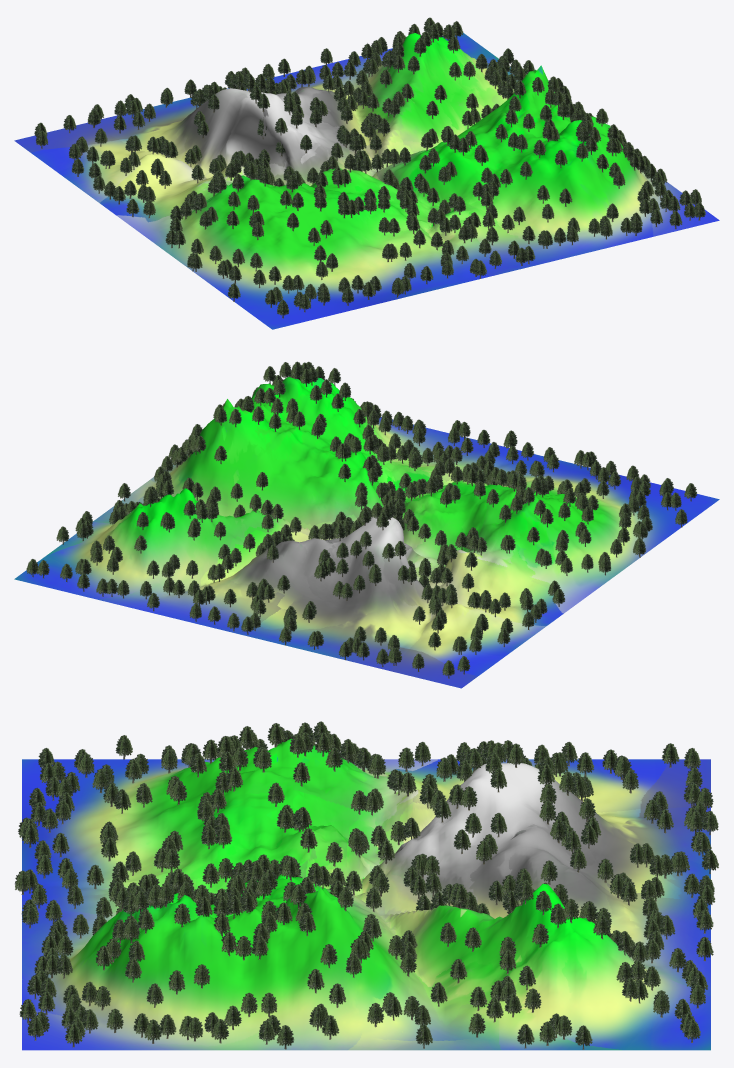
File: terrain5.glb
The picture shows the model from 3 angles, top to bottom: view 1: azimuth 30°, elevation 25°; view 2: azimuth 150°, elevation 25°; view 3: azimuth 270°, elevation 25°; orthographic projection. The views are drawn at different scales.
Parts seen in each view (by area): view 1: Landscape; view 2: Landscape; view 3: Landscape.
Boxes of the visible parts, box(x1,y1,x2,y2) form: Landscape: box(14, 32, 719, 329); Landscape: box(14, 377, 719, 688); Landscape: box(22, 738, 710, 1050).
Size of the model in its own units: 102 by 20.78 by 102.
2 materials, 2 textured.
